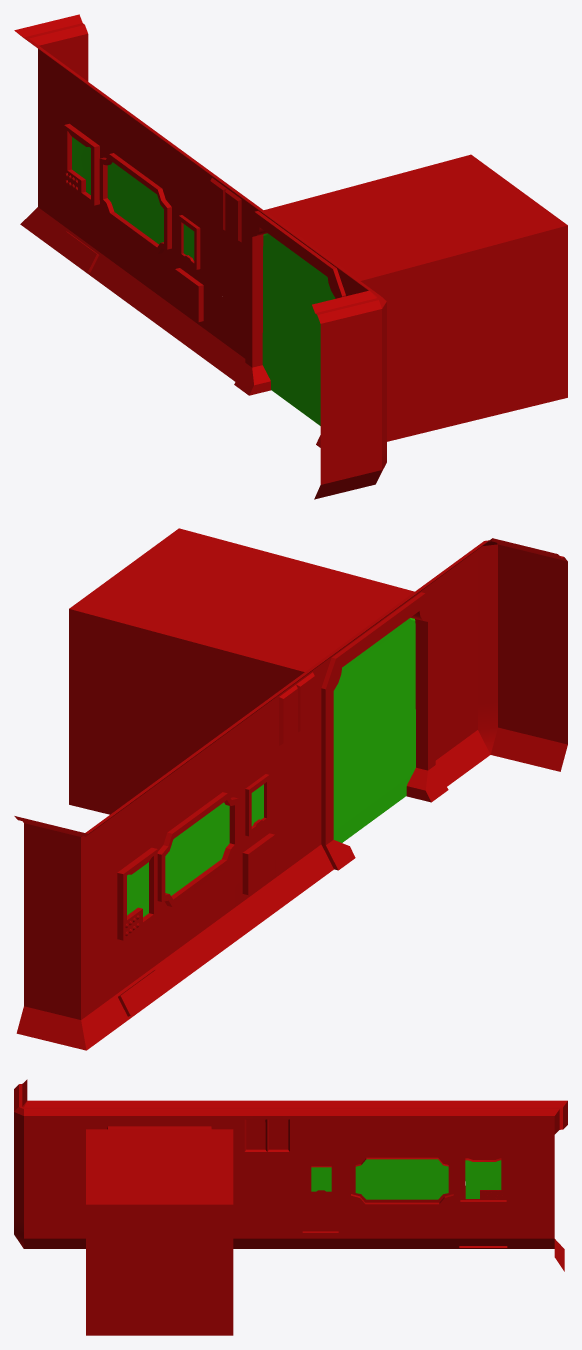
Rendered from walls1.fbx.
3 renders of one model, top to bottom at view 1: azimuth 30°, elevation 25°; view 2: azimuth 150°, elevation 25°; view 3: azimuth 270°, elevation 25°, orthographic. The views are drawn at different scales.
Visible parts, largest first — view 1: pasted__pasted__polySurface24951, pasted__polySurface7258pasted__pCube98, polySurface25030, pasted__pasted__polySurface24974, pasted__polySurface24961, pasted__pasted__pasted__pCube122group, pasted__polySurface24933pasted__pCube92, polySurface25031, pasted__pasted__polySurface24927polySurface16, pasted__pasted__polySurface7258pasted__pCube92, polySurface25033, pasted__polySurface24944 (+4 smaller); view 2: pasted__pasted__polySurface24951, pasted__polySurface7258pasted__pCube98, pasted__polySurface24961, polySurface25030, pasted__pasted__polySurface24974, pasted__polySurface24933pasted__pCube92, pasted__pasted__pasted__pCube122group, polySurface25031, pasted__pasted__polySurface24927polySurface16, pasted__pasted__polySurface7258pasted__pCube92, pasted__polySurface24924, polySurface25033 (+4 smaller); view 3: pasted__pasted__polySurface24951, polySurface25030, pasted__polySurface7258pasted__pCube98, pasted__polySurface24961, polySurface25031, polySurface7257, pasted__polySurface24924, pasted__polySurface24944, pasted__pasted__polySurface7258pasted__pCube92, pasted__polySurface24933pasted__pCube92, pasted__pasted__polySurface24927polySurface16, pasted__pasted__pasted__pCube122group (+4 smaller).
Part boxes in pixels (left/top/right/bottom): pasted__pasted__polySurface24951: left=231, top=154, right=567, bottom=447; pasted__polySurface7258pasted__pCube98: left=312, top=268, right=386, bottom=499; polySurface25030: left=89, top=85, right=173, bottom=328; pasted__pasted__polySurface24974: left=262, top=233, right=335, bottom=425; pasted__polySurface24961: left=14, top=14, right=88, bottom=249; pasted__pasted__pasted__pCube122group: left=162, top=261, right=208, bottom=354; pasted__polySurface24933pasted__pCube92: left=198, top=287, right=244, bottom=380; polySurface25031: left=107, top=162, right=163, bottom=244; pasted__pasted__polySurface24927polySurface16: left=56, top=186, right=102, bottom=275; pasted__pasted__polySurface7258pasted__pCube92: left=209, top=223, right=244, bottom=312; polySurface25033: left=173, top=197, right=208, bottom=286; pasted__polySurface24944: left=160, top=137, right=208, bottom=222; pasted__pasted__polySurface24951: left=69, top=528, right=452, bottom=872; pasted__polySurface7258pasted__pCube98: left=437, top=538, right=567, bottom=784; pasted__polySurface24961: left=14, top=803, right=130, bottom=1050; polySurface25030: left=154, top=715, right=250, bottom=991; pasted__pasted__polySurface24974: left=333, top=618, right=415, bottom=842; pasted__polySurface24933pasted__pCube92: left=275, top=797, right=328, bottom=902; pasted__pasted__pasted__pCube122group: left=235, top=827, right=288, bottom=931; polySurface25031: left=165, top=802, right=229, bottom=895; pasted__pasted__polySurface24927polySurface16: left=114, top=918, right=167, bottom=1020; pasted__pasted__polySurface7258pasted__pCube92: left=275, top=724, right=316, bottom=825; pasted__polySurface24924: left=275, top=656, right=330, bottom=752; polySurface25033: left=235, top=753, right=275, bottom=855; pasted__pasted__polySurface24951: left=78, top=1100, right=239, bottom=1335; polySurface25030: left=348, top=1100, right=456, bottom=1248; pasted__polySurface7258pasted__pCube98: left=14, top=1079, right=77, bottom=1248; pasted__polySurface24961: left=510, top=1100, right=567, bottom=1271; polySurface25031: left=355, top=1159, right=448, bottom=1199; polySurface7257: left=456, top=1100, right=510, bottom=1155; pasted__polySurface24924: left=240, top=1100, right=294, bottom=1155; pasted__polySurface24944: left=294, top=1100, right=348, bottom=1155; pasted__pasted__polySurface7258pasted__pCube92: left=240, top=1155, right=294, bottom=1204; pasted__polySurface24933pasted__pCube92: left=240, top=1204, right=294, bottom=1248; pasted__pasted__polySurface24927polySurface16: left=456, top=1204, right=510, bottom=1248; pasted__pasted__pasted__pCube122group: left=294, top=1204, right=348, bottom=1248.
Size of the model in its own units: 4.79 by 3 by 10.25.
